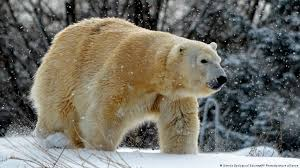PolarBear: (31, 10, 227, 153)
